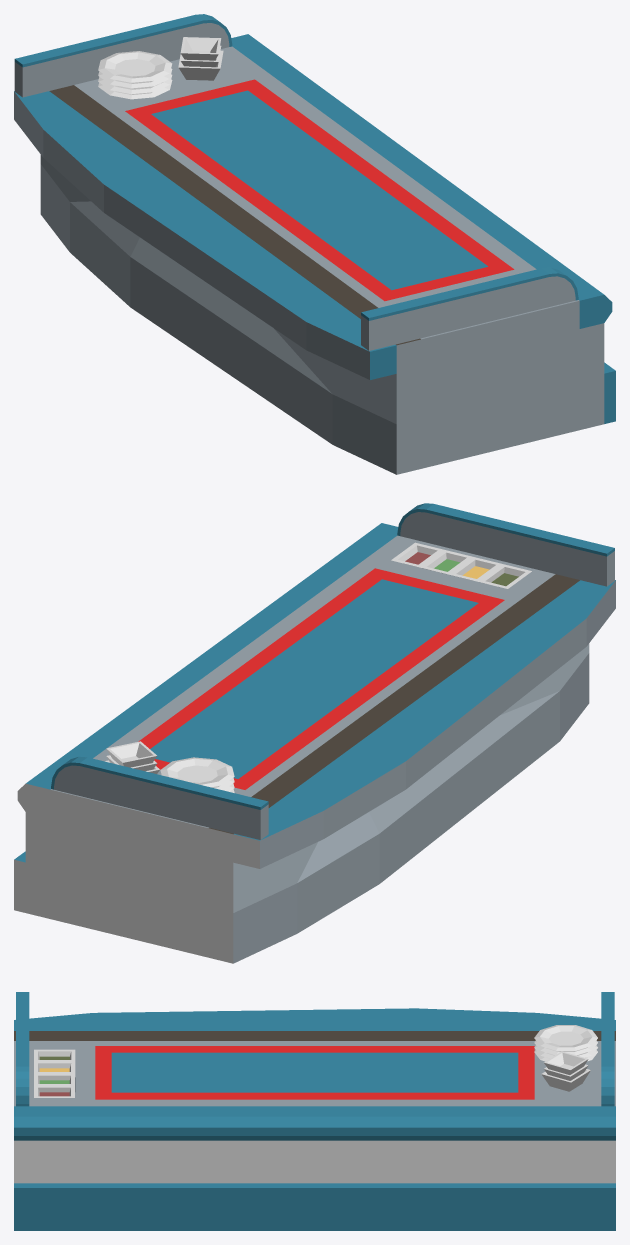
The model's file is 3D_workstation_assembly.fbx.
3 renders of one model, top to bottom at view 1: azimuth 30°, elevation 25°; view 2: azimuth 150°, elevation 25°; view 3: azimuth 270°, elevation 25°, orthographic. The views are drawn at different scales.
Parts seen in each view (by area): view 1: 3D_workstation_assembly_table; view 2: 3D_workstation_assembly_table; view 3: 3D_workstation_assembly_table.
Part boxes in pixels (x1,y1,x2,y2): 3D_workstation_assembly_table: [14, 14, 615, 474]; 3D_workstation_assembly_table: [14, 503, 615, 963]; 3D_workstation_assembly_table: [14, 992, 615, 1230].
Bounding box in the file's own units: 130 × 73.56 × 292.
